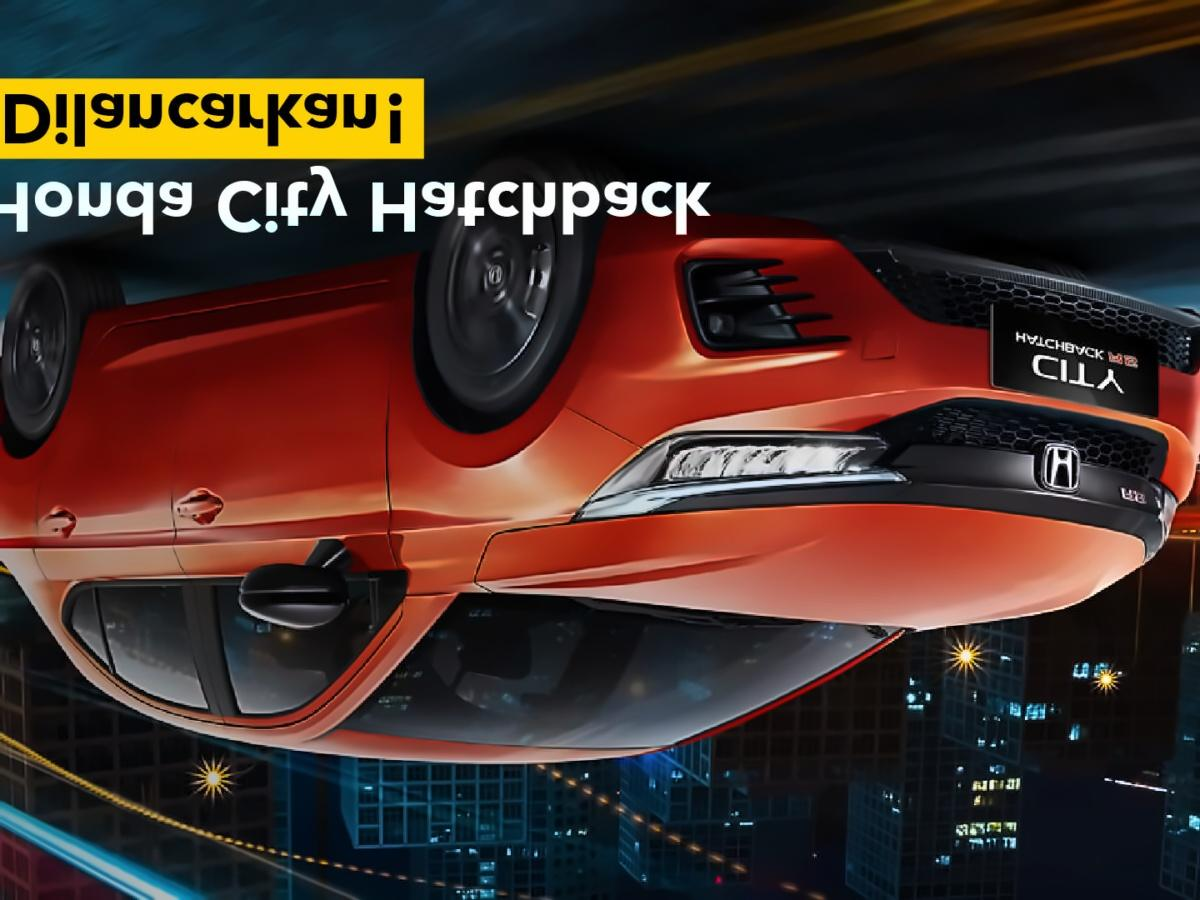Car hood: (470, 494, 1152, 638)
Fender - -F-L-: (389, 242, 643, 602)
Front bumper: (549, 199, 1200, 462)
Headlight - -L-: (569, 424, 911, 526)
Headlight - -R-: (1137, 472, 1187, 556)
Passenger-s door - -F-L-: (172, 274, 389, 740)
Passenger-s door - -R-L-: (30, 305, 211, 735)
Side bumper - -L-: (74, 244, 428, 340)
Side mirror - -L-: (235, 525, 378, 632)
